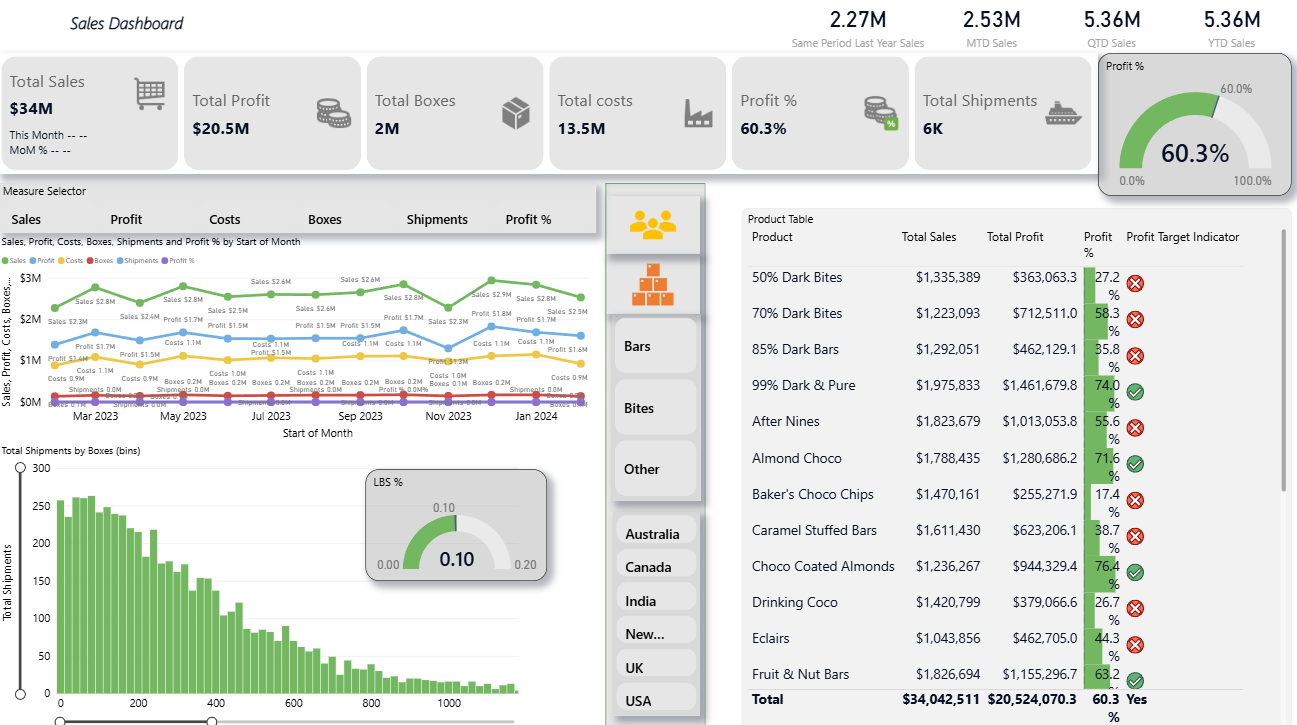

The dashboard page shown, as its layout file describes it:
{"tool":"powerbi","page":{"name":"Dashboard","canvas":[1920,1080],"ordinal":2},"visuals":[{"type":"shape","box":[891.4,278.8,146.7,799.7],"z":0},{"type":"cardVisual","fields":{"Data":["_Measure.Total Sales","_Measure.Total Profit","_Measure.Total Boxes","_Measure.Total costs","_Measure.Profit %","_Measure.Total Shipments"]},"box":[0,88,1614.1,177.9],"z":1000},{"type":"gauge","fields":{"Y":["_Measure.Profit %"]},"box":[1613.7,88.5,284,209.9],"z":2000},{"type":"lineChart","fields":{"Y":["_Measure.Total Sales","_Measure.Total Profit","_Measure.Total costs","_Measure.Total Boxes","_Measure.Total Shipments","_Measure.Profit %"],"Category":["calendar.Start of Month"]},"box":[0,354,891.4,306.3],"z":3000},{"type":"advancedSlicerVisual","fields":{"Values":["Measure Selector.Measure Selector"]},"box":[1.8,278.8,874.9,73.4],"z":4000},{"type":"columnChart","fields":{"Category":["shipments.Boxes (bins)"],"Y":["_Measure.Total Shipments"]},"box":[0,660.7,782.2,419.9],"z":5000},{"type":"gauge","fields":{"Y":["_Measure.LBS %"]},"box":[539.7,698.9,266.1,164.1],"z":6000},{"type":"image","title":"People","box":[891.4,297.1,139.4,86.2],"z":8000},{"type":"image","title":"Products","box":[891.4,383.4,139.4,88],"z":9000},{"type":"tableEx","title":"Product Table","fields":{"Values":["products.Product","_Measure.Total Sales","_Measure.Total Profit","_Measure.Profit %","_Measure.Profit Target Indicator"]},"box":[1091.4,315.5,807.1,766.7],"z":10000},{"type":"advancedSlicerVisual","fields":{"Values":["products.Category"]},"box":[900.6,471.4,130.2,273.3],"z":11000},{"type":"textbox","box":[100.9,22,238.5,49.5],"z":12000},{"type":"advancedSlicerVisual","fields":{"Values":["locations.Geo"]},"box":[902.5,761.2,128.4,299],"z":13000},{"type":"card","fields":{"Values":["Time Periods.MTD Sales"]},"box":[1370.2,5.5,176.1,82.5],"z":14000},{"type":"card","fields":{"Values":["Time Periods.QTD Sales"]},"box":[1546.3,5.5,176.1,82.5],"z":15000},{"type":"card","fields":{"Values":["Time Periods.YTD Sales"]},"box":[1722.4,5.5,176.1,82.5],"z":16000},{"type":"card","fields":{"Values":["_Measure.Same Period Last Year Sales"]},"box":[1153.7,5.5,216.4,82.5],"z":17000}]}

Visuals, with their boxes in screenshot pixels (x1, y1, x2, y2), scaled from the page's 1920x1080 canvas onto the 1297x725 screenshot:
shape: bbox(602, 187, 701, 724)
cardVisual - _Measure.Total Sales x _Measure.Total Profit: bbox(0, 59, 1090, 178)
gauge - _Measure.Profit %: bbox(1090, 59, 1282, 200)
lineChart - _Measure.Total Sales x _Measure.Total Profit: bbox(0, 238, 602, 443)
advancedSlicerVisual - Measure Selector.Measure Selector: bbox(1, 187, 592, 236)
columnChart - shipments.Boxes (bins) x _Measure.Total Shipments: bbox(0, 444, 528, 724)
gauge - _Measure.LBS %: bbox(365, 469, 544, 579)
"People" image: bbox(602, 199, 696, 257)
"Products" image: bbox(602, 257, 696, 316)
"Product Table" tableEx: bbox(737, 212, 1282, 724)
advancedSlicerVisual - products.Category: bbox(608, 316, 696, 500)
textbox: bbox(68, 15, 229, 48)
advancedSlicerVisual - locations.Geo: bbox(610, 511, 696, 712)
card - Time Periods.MTD Sales: bbox(926, 4, 1045, 59)
card - Time Periods.QTD Sales: bbox(1045, 4, 1164, 59)
card - Time Periods.YTD Sales: bbox(1164, 4, 1282, 59)
card - _Measure.Same Period Last Year Sales: bbox(779, 4, 926, 59)
